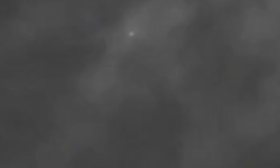Target: (131, 33, 133, 36)
